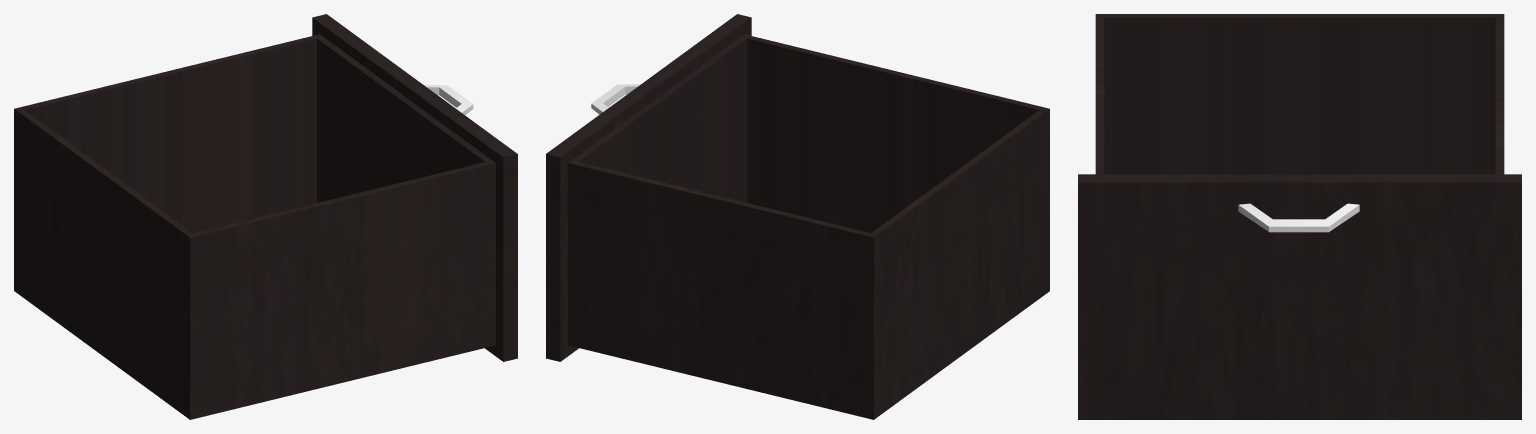
Rendered from Drawer_2d162fce.obj.
3 renders of one model, left to right at view 1: azimuth 30°, elevation 25°; view 2: azimuth 150°, elevation 25°; view 3: azimuth 270°, elevation 25°, orthographic. The views are drawn at different scales.
Parts seen in each view (by area): view 1: FP421:Door_01_cde6a1f7; view 2: FP421:Door_01_cde6a1f7; view 3: FP421:Door_01_cde6a1f7.
Part boxes in pixels (x1,y1,x2,y2): FP421:Door_01_cde6a1f7: [14, 14, 517, 419]; FP421:Door_01_cde6a1f7: [546, 14, 1049, 419]; FP421:Door_01_cde6a1f7: [1078, 14, 1521, 419].
Size of the model in its own units: 0.5483 by 0.2996 by 0.5075.
